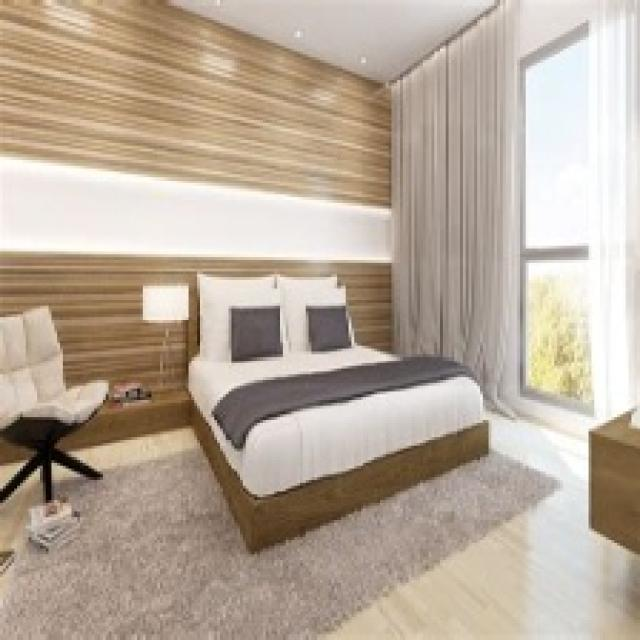Bed: (186, 272, 488, 554)
